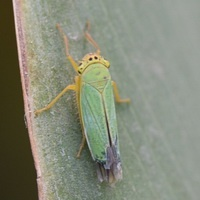insect: (34, 21, 130, 182)
